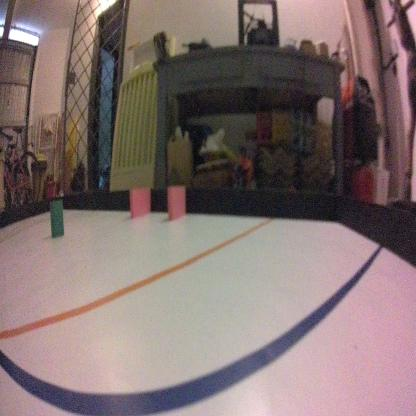green: (48, 194, 67, 238)
magenta: (167, 185, 186, 221), (128, 188, 150, 217)
